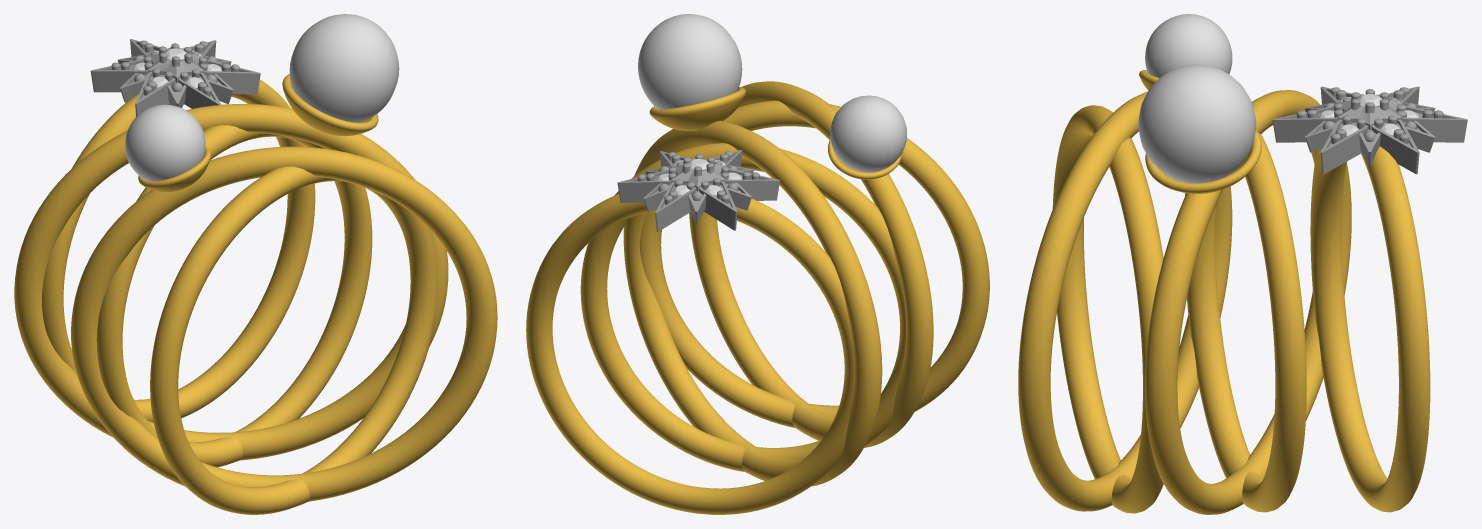
The model's file is Ring_C_Optimazed_02_StoneCuts.fbx.
3 views of the same model, side by side, from view 1: azimuth 30°, elevation 25°; view 2: azimuth 150°, elevation 25°; view 3: azimuth 270°, elevation 25° (orthographic). The views are drawn at different scales.
Parts seen in each view (by area): view 1: Ring_C_Object_01_Object, Ring_C_Spheres_02_Object, Ring_C_Object_02_Object, Ring_C_Diamond_Object; view 2: Ring_C_Object_01_Object, Ring_C_Spheres_02_Object, Ring_C_Object_02_Object, Ring_C_Diamond_Object; view 3: Ring_C_Object_01_Object, Ring_C_Spheres_02_Object, Ring_C_Object_02_Object, Ring_C_Diamond_Object.
Part boxes in pixels (x1,y1,x2,y2): Ring_C_Object_01_Object: (14, 74, 497, 514); Ring_C_Spheres_02_Object: (125, 14, 399, 181); Ring_C_Object_02_Object: (90, 39, 260, 116); Ring_C_Diamond_Object: (132, 48, 221, 87); Ring_C_Object_01_Object: (526, 81, 989, 514); Ring_C_Spheres_02_Object: (638, 14, 906, 172); Ring_C_Object_02_Object: (617, 150, 779, 231); Ring_C_Diamond_Object: (656, 158, 742, 195); Ring_C_Object_01_Object: (1018, 70, 1430, 514); Ring_C_Spheres_02_Object: (1138, 14, 1256, 183); Ring_C_Object_02_Object: (1272, 86, 1467, 174); Ring_C_Diamond_Object: (1318, 94, 1418, 135).
Size of the model in its own units: 1.9 by 2.27 by 1.96.
